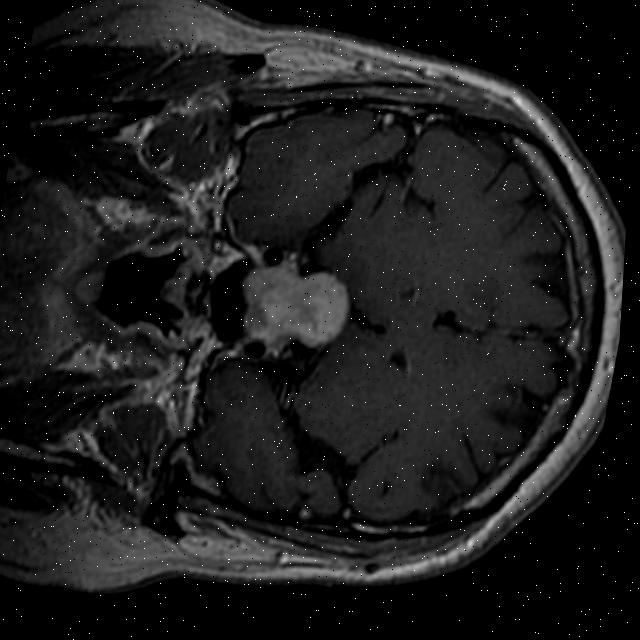Pituitary: (231, 258, 357, 354)
